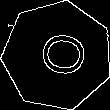O_W: (28, 30, 86, 81)
